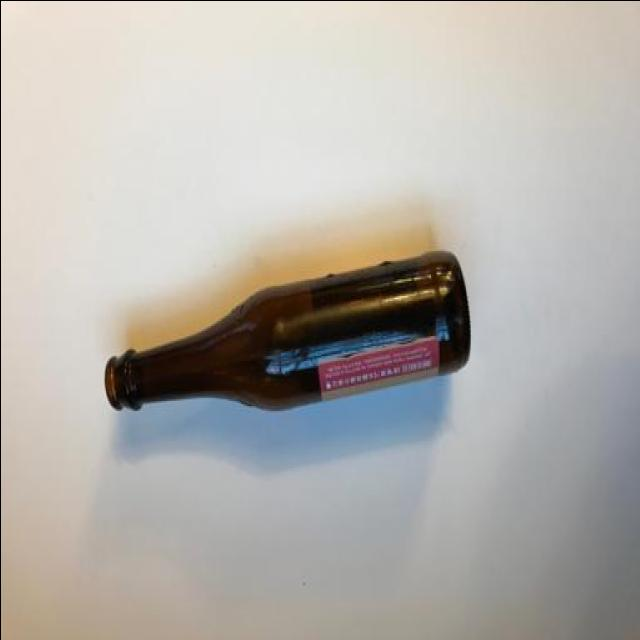glass: (102, 244, 567, 473)
